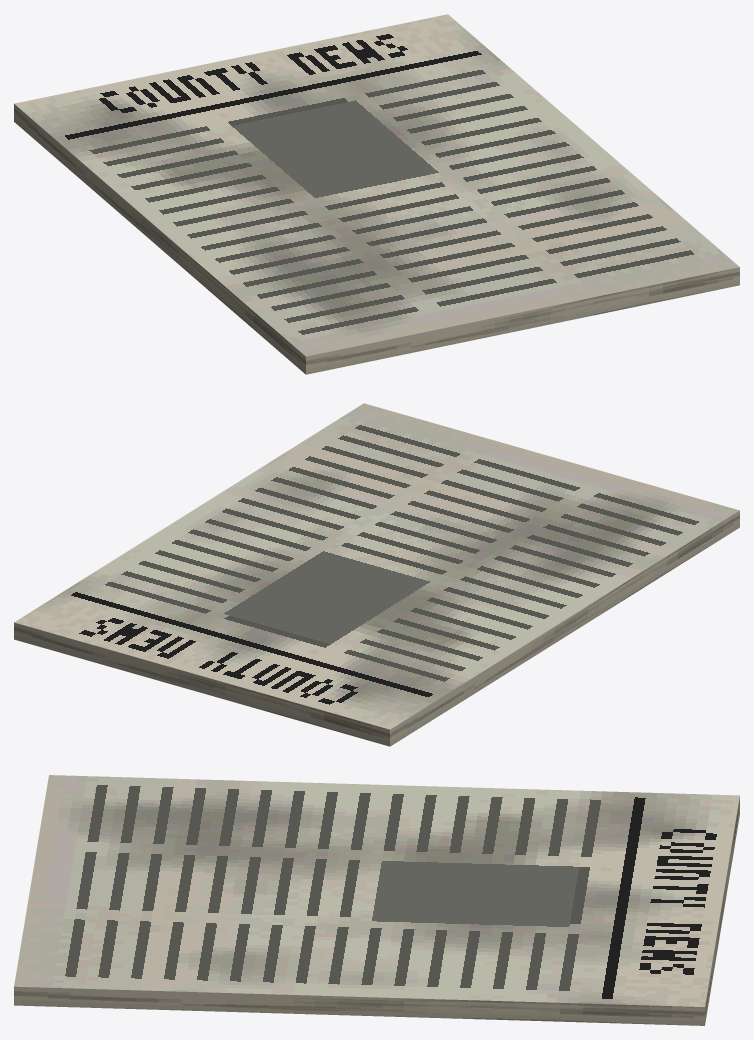
File: newspaper.glb
3 views of the same model, one above another, from view 1: azimuth 30°, elevation 25°; view 2: azimuth 150°, elevation 25°; view 3: azimuth 270°, elevation 25° (orthographic). The views are drawn at different scales.
Parts seen in each view (by area): view 1: newspaper; view 2: newspaper; view 3: newspaper.
Boxes of the visible parts, box(x1,y1,x2,y2) form: newspaper: box(14, 14, 739, 374); newspaper: box(14, 403, 739, 746); newspaper: box(14, 775, 739, 1025).
Bounding box in the file's own units: 0.3172 × 0.012 × 0.4193.
1 material, 1 textured.
